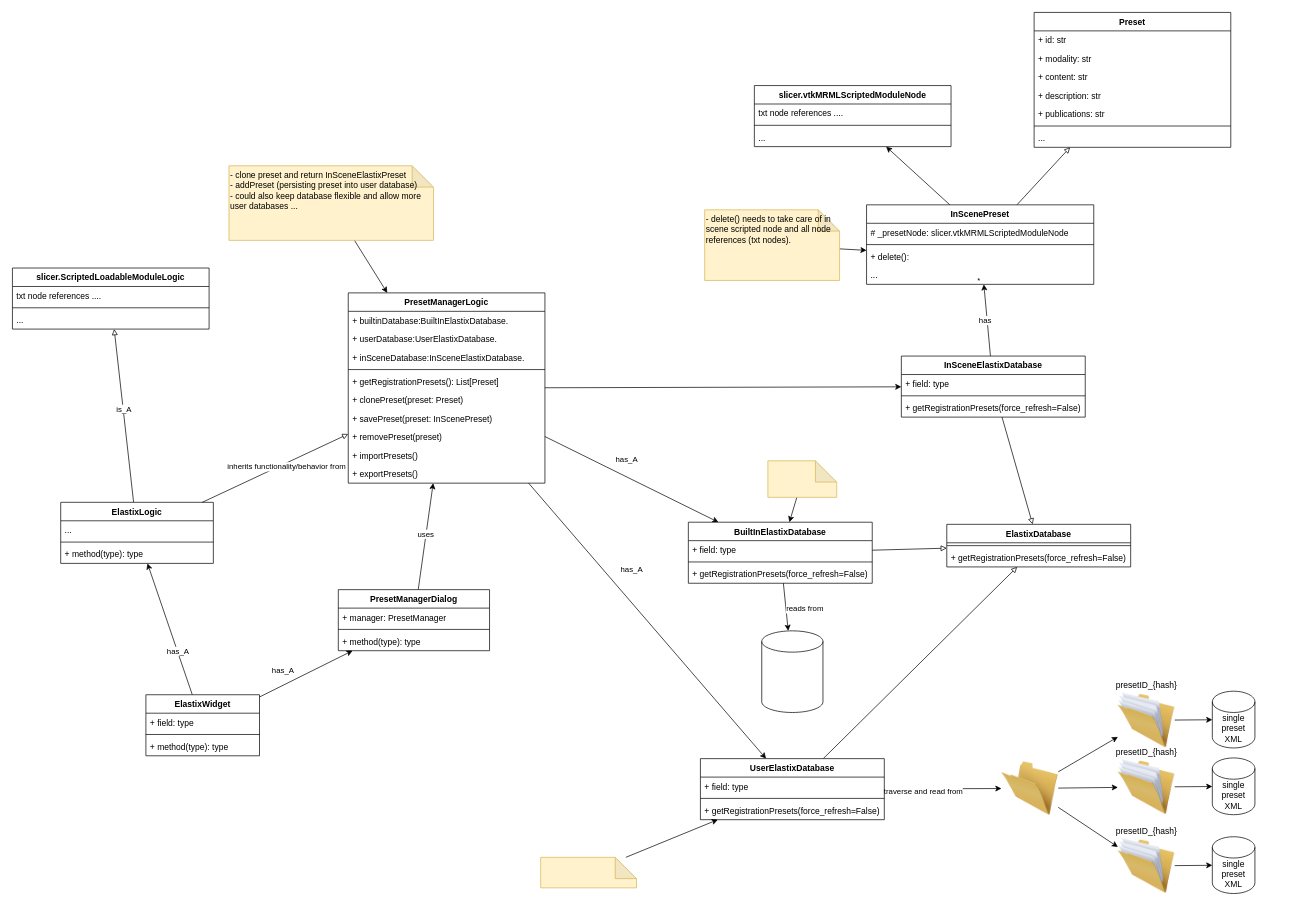
Image size: 1307x907. Some labels were removed from this diagram. Each missing label, with the centre of its shape:
default built-in presets xml (readonly): (x=792, y=671)
Read: (x=802, y=478)
Read & Write: (x=588, y=872)
userSettingPath / "Elastix": (x=1029, y=788)
